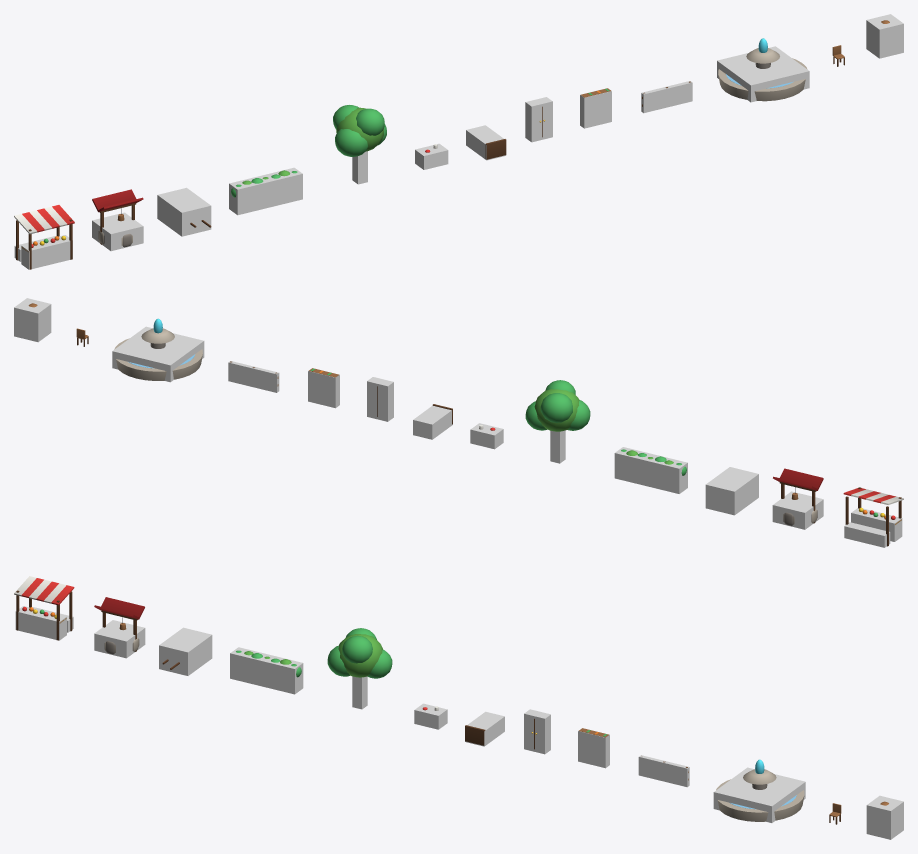
Rendered from Pueblo_Props.fbx.
3 views of the same model, one above another, from view 1: azimuth 30°, elevation 25°; view 2: azimuth 150°, elevation 25°; view 3: azimuth 330°, elevation 25° (orthographic).
Parts seen in each view (by area): view 1: Fuente_Col0, Seto_Col0, Arbol, Carreta_Col0, Puesto, Fuente, Barriles_Col0, Pozo_Col0, Puesto_Col0, Armario_Col0, Valla_Col0, Pozo (+3 smaller); view 2: Arbol, Fuente_Col0, Seto_Col0, Carreta_Col0, Fuente, Barriles_Col0, Pozo_Col0, Valla_Col0, Armario_Col0, Pozo, Puesto, Estante_Col0 (+4 smaller); view 3: Arbol, Fuente_Col0, Seto_Col0, Carreta_Col0, Puesto, Fuente, Barriles_Col0, Pozo_Col0, Puesto_Col0, Valla_Col0, Pozo, Armario_Col0 (+3 smaller).
Part boxes in pixels (<box>): Fuente_Col0: <box>717,46,809,102</box>; Seto_Col0: <box>229,167,302,215</box>; Arbol: <box>333,105,386,156</box>; Carreta_Col0: <box>157,187,211,236</box>; Puesto: <box>14,205,74,269</box>; Fuente: <box>718,48,807,101</box>; Barriles_Col0: <box>866,14,903,58</box>; Pozo_Col0: <box>92,212,143,251</box>; Puesto_Col0: <box>21,235,72,269</box>; Armario_Col0: <box>525,97,552,142</box>; Valla_Col0: <box>641,81,692,113</box>; Pozo: <box>92,189,143,247</box>; Arbol: <box>525,380,590,431</box>; Fuente_Col0: <box>112,326,204,382</box>; Seto_Col0: <box>614,447,687,493</box>; Carreta_Col0: <box>705,467,758,515</box>; Fuente: <box>114,328,202,380</box>; Barriles_Col0: <box>14,298,51,342</box>; Pozo_Col0: <box>772,491,823,529</box>; Valla_Col0: <box>228,361,279,392</box>; Armario_Col0: <box>367,377,393,421</box>; Pozo: <box>773,468,823,525</box>; Puesto: <box>843,487,903,546</box>; Estante_Col0: <box>308,368,339,408</box>; Arbol: <box>327,628,392,678</box>; Fuente_Col0: <box>713,767,805,822</box>; Seto_Col0: <box>230,647,303,694</box>; Carreta_Col0: <box>159,627,212,675</box>; Puesto: <box>14,576,74,640</box>; Fuente: <box>716,769,804,821</box>; Barriles_Col0: <box>866,795,903,839</box>; Pozo_Col0: <box>94,620,145,658</box>; Puesto_Col0: <box>15,606,66,640</box>; Valla_Col0: <box>638,755,689,787</box>; Pozo: <box>94,597,144,654</box>; Armario_Col0: <box>524,709,550,754</box>.
Bounding box in the file's own units: 53.86 × 4.36 × 4.8.
Materials: 2 (2 with a texture image).
